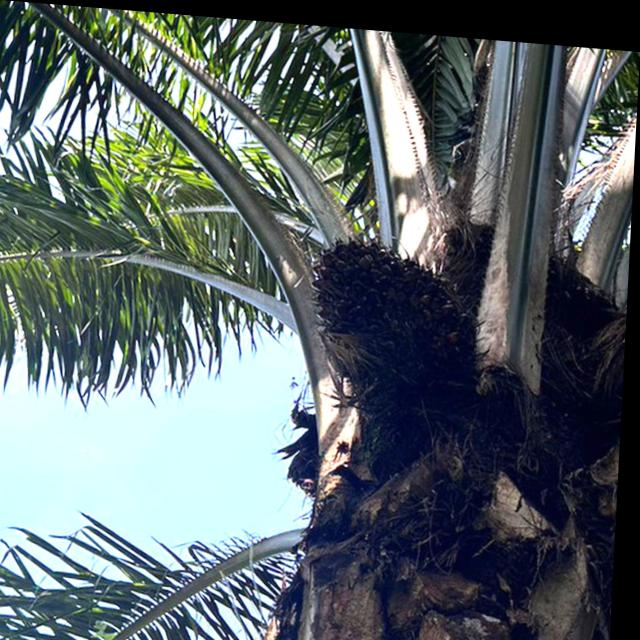ripe: (294, 214, 490, 409)
